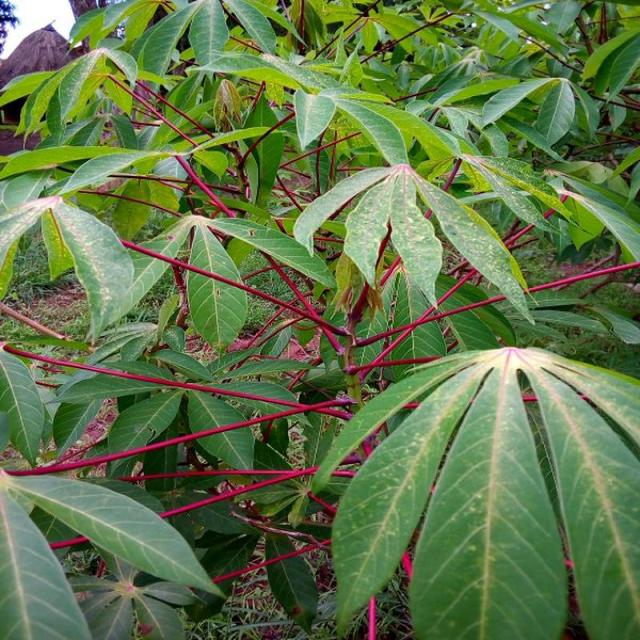cassava leaf: (329, 344, 638, 638), (185, 220, 248, 348)
